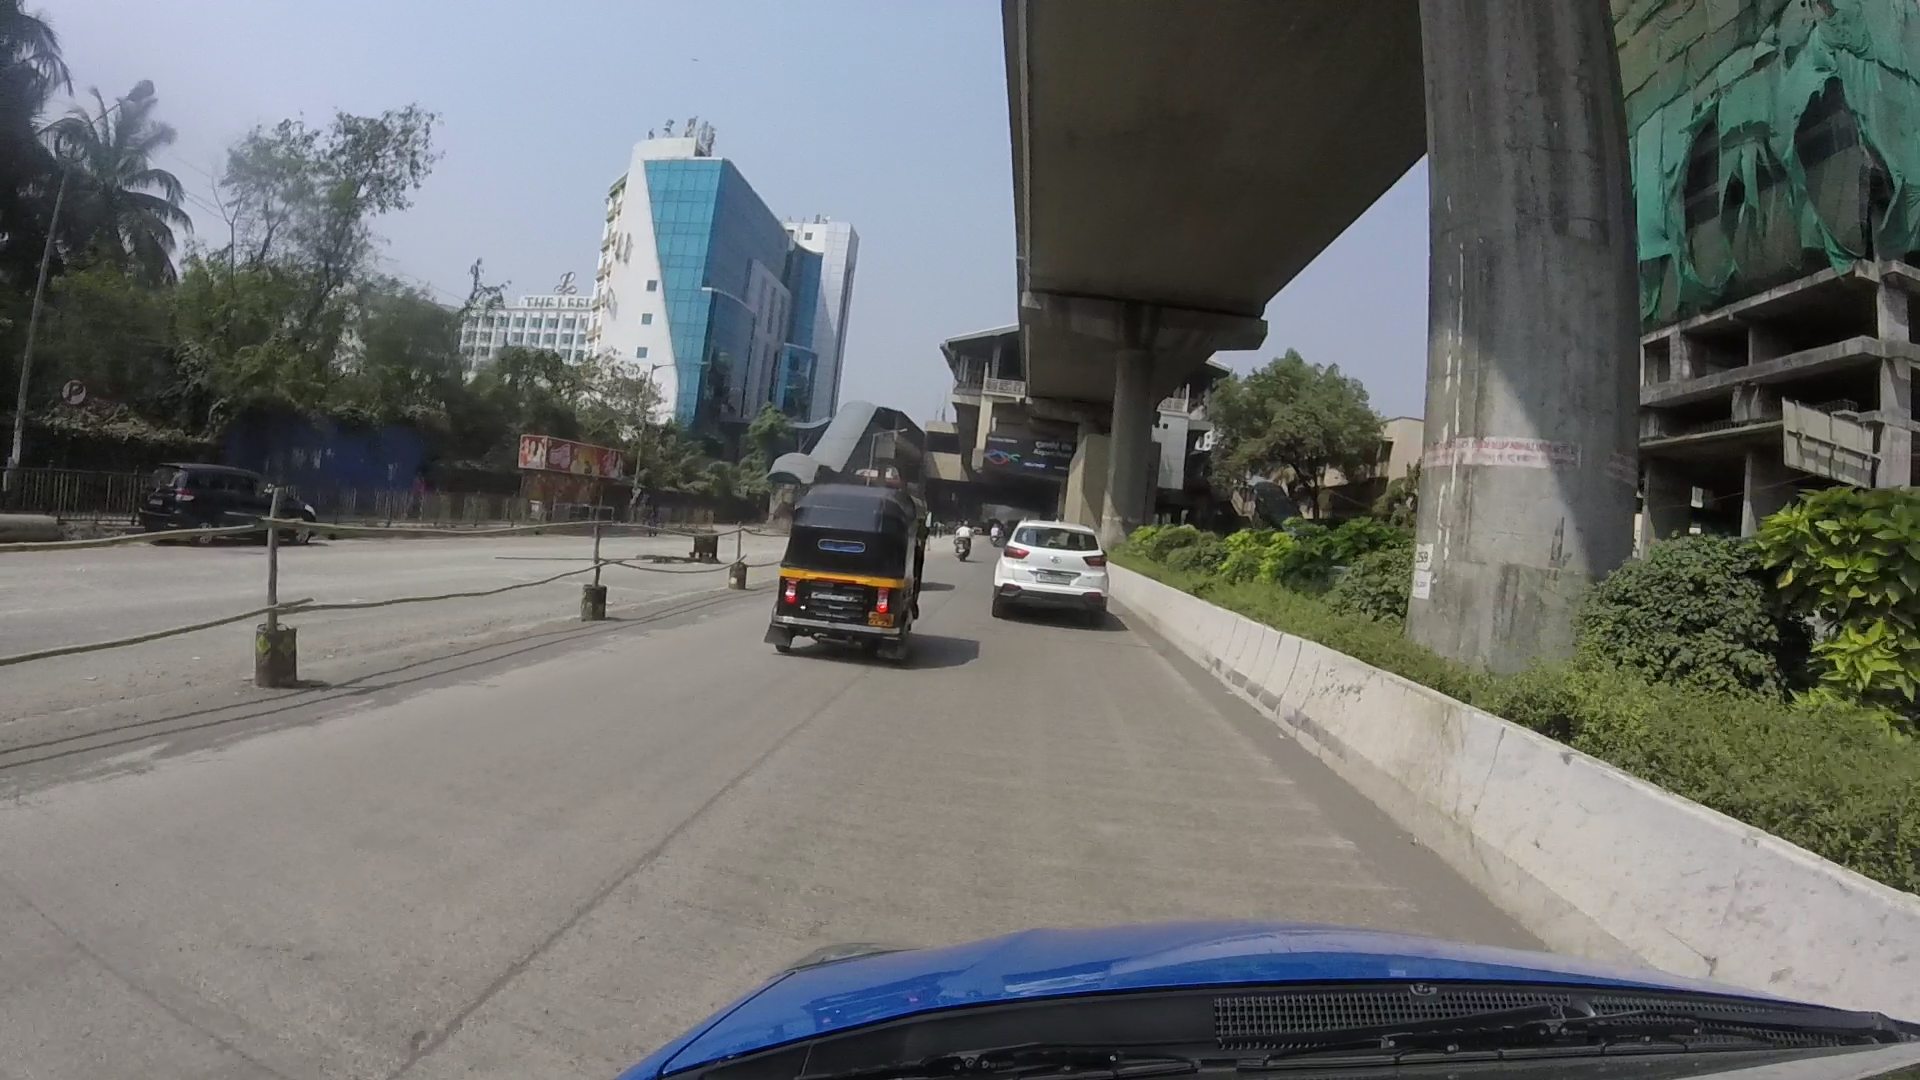car: (990, 513, 1125, 618)
rickshaw: (775, 477, 916, 654)
